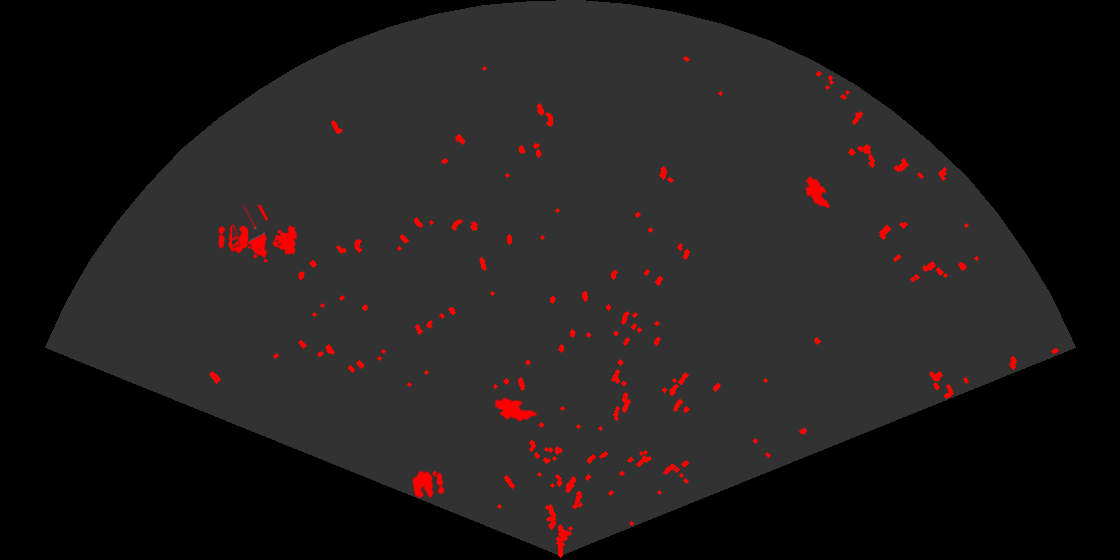AUV: (492, 396, 539, 423), (804, 175, 832, 210)
ball: (410, 469, 446, 500), (217, 222, 250, 255)
cage: (232, 205, 299, 264)
